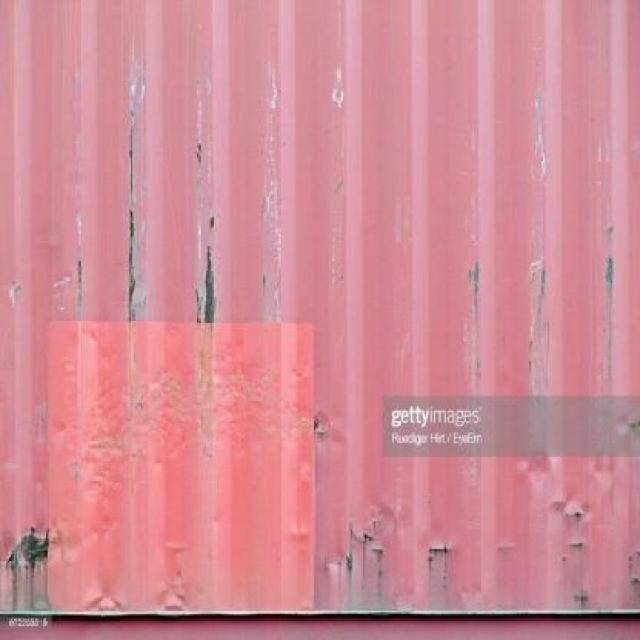Minor-Dent: (82, 589, 133, 614), (155, 586, 191, 612), (8, 279, 22, 306)
Rust: (0, 523, 54, 614), (528, 265, 551, 397), (203, 242, 219, 346), (130, 123, 136, 343), (605, 223, 617, 323), (468, 256, 482, 316), (313, 413, 333, 442), (627, 547, 640, 586), (195, 286, 203, 334), (371, 506, 385, 531), (353, 531, 376, 546), (366, 545, 388, 559), (565, 506, 586, 520), (345, 550, 354, 576), (77, 251, 81, 309), (428, 543, 452, 552), (627, 418, 640, 432), (568, 540, 583, 551), (426, 555, 434, 571), (335, 555, 343, 571), (376, 566, 387, 577), (210, 214, 216, 229)
